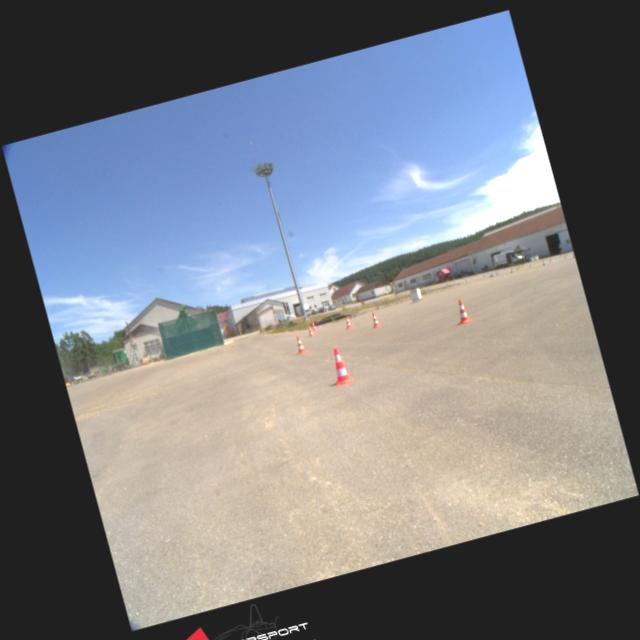large_orange_cone: (326, 344, 353, 386), (454, 298, 471, 324), (294, 335, 306, 353), (369, 312, 380, 328), (343, 315, 353, 329), (306, 324, 314, 336), (310, 320, 316, 330)
